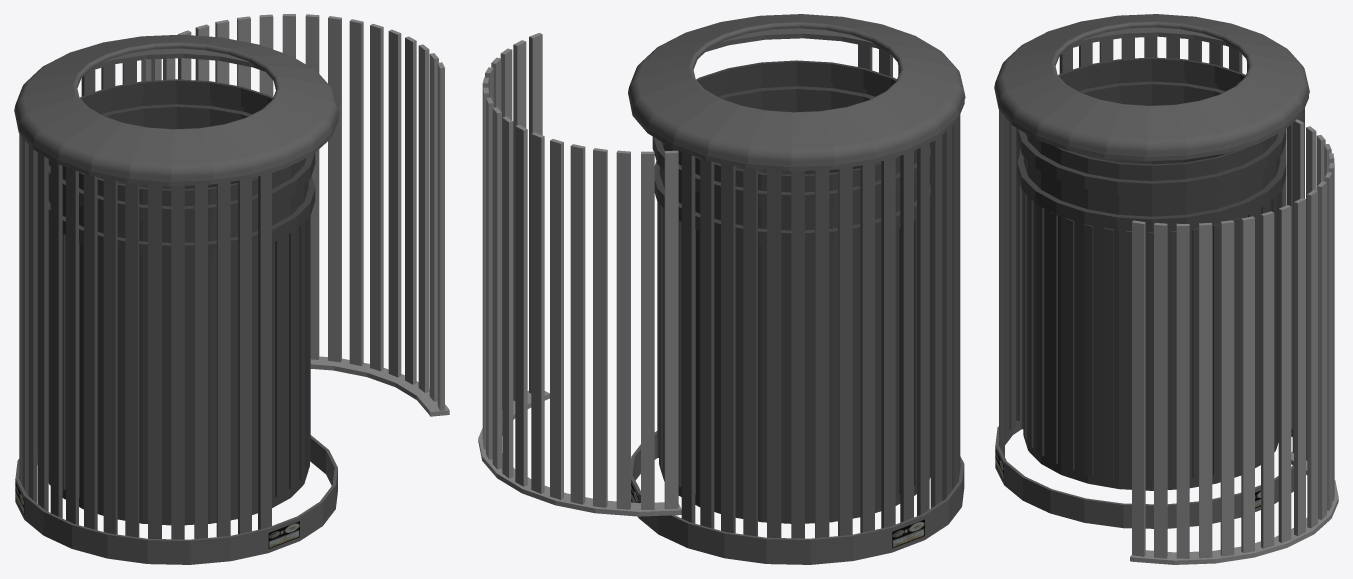
The picture shows the model from 3 angles, left to right: view 1: azimuth 30°, elevation 25°; view 2: azimuth 150°, elevation 25°; view 3: azimuth 270°, elevation 25°; orthographic projection. The views are drawn at different scales.
Parts seen in each view (by area): view 1: mesh173_mesh173-geometry, mesh100_mesh100-geometry, mesh48_mesh48-geometry, mesh87_mesh87-geometry, mesh57_mesh57-geometry, mesh44_mesh44-geometry, mesh33_mesh33-geometry, mesh75_mesh75-geometry, mesh53_mesh53-geometry, mesh85_mesh85-geometry, mesh65_mesh65-geometry, mesh46_mesh46-geometry (+26 smaller); view 2: mesh173_mesh173-geometry, mesh100_mesh100-geometry, mesh48_mesh48-geometry, mesh25_mesh25-geometry, mesh81_mesh81-geometry, mesh83_mesh83-geometry, mesh63_mesh63-geometry, mesh91_mesh91-geometry, mesh93_mesh93-geometry, mesh77_mesh77-geometry, mesh79_mesh79-geometry, mesh89_mesh89-geometry (+28 smaller); view 3: mesh173_mesh173-geometry, mesh100_mesh100-geometry, mesh48_mesh48-geometry, mesh27_mesh27-geometry, mesh35_mesh35-geometry, mesh33_mesh33-geometry, mesh13_mesh13-geometry, mesh11_mesh11-geometry, mesh23_mesh23-geometry, mesh29_mesh29-geometry, mesh31_mesh31-geometry, mesh17_mesh17-geometry (+31 smaller).
Boxes of the visible parts, box(x1,y1,x2,y2) form: mesh173_mesh173-geometry: box(48, 79, 315, 525); mesh100_mesh100-geometry: box(14, 34, 338, 181); mesh48_mesh48-geometry: box(15, 435, 337, 564); mesh87_mesh87-geometry: box(103, 178, 117, 534); mesh57_mesh57-geometry: box(216, 182, 230, 536); mesh44_mesh44-geometry: box(125, 182, 139, 537); mesh33_mesh33-geometry: box(349, 19, 363, 366); mesh75_mesh75-geometry: box(171, 185, 184, 539); mesh53_mesh53-geometry: box(258, 172, 271, 529); mesh85_mesh85-geometry: box(148, 184, 161, 538); mesh65_mesh65-geometry: box(194, 185, 207, 539); mesh46_mesh46-geometry: box(238, 178, 251, 533); mesh173_mesh173-geometry: box(652, 60, 930, 523); mesh100_mesh100-geometry: box(628, 14, 965, 166); mesh48_mesh48-geometry: box(631, 431, 964, 564); mesh25_mesh25-geometry: box(570, 144, 585, 504); mesh81_mesh81-geometry: box(721, 163, 735, 533); mesh83_mesh83-geometry: box(881, 157, 895, 528); mesh63_mesh63-geometry: box(838, 167, 852, 535); mesh91_mesh91-geometry: box(815, 170, 829, 538); mesh93_mesh93-geometry: box(767, 170, 781, 537); mesh77_mesh77-geometry: box(681, 152, 695, 523); mesh79_mesh79-geometry: box(743, 168, 757, 536); mesh89_mesh89-geometry: box(860, 163, 874, 532); mesh173_mesh173-geometry: box(1017, 57, 1286, 490); mesh100_mesh100-geometry: box(994, 14, 1309, 156); mesh48_mesh48-geometry: box(995, 420, 1306, 528); mesh27_mesh27-geometry: box(1220, 220, 1234, 556); mesh35_mesh35-geometry: box(1241, 216, 1254, 553); mesh33_mesh33-geometry: box(1261, 211, 1274, 548); mesh13_mesh13-geometry: box(1132, 220, 1145, 556); mesh11_mesh11-geometry: box(1154, 223, 1167, 558); mesh23_mesh23-geometry: box(1278, 205, 1291, 542); mesh29_mesh29-geometry: box(1199, 222, 1212, 558); mesh31_mesh31-geometry: box(1176, 223, 1189, 558); mesh17_mesh17-geometry: box(1294, 198, 1305, 535).
Size of the model in its own units: 0.6353 by 0.6081 by 0.476.
